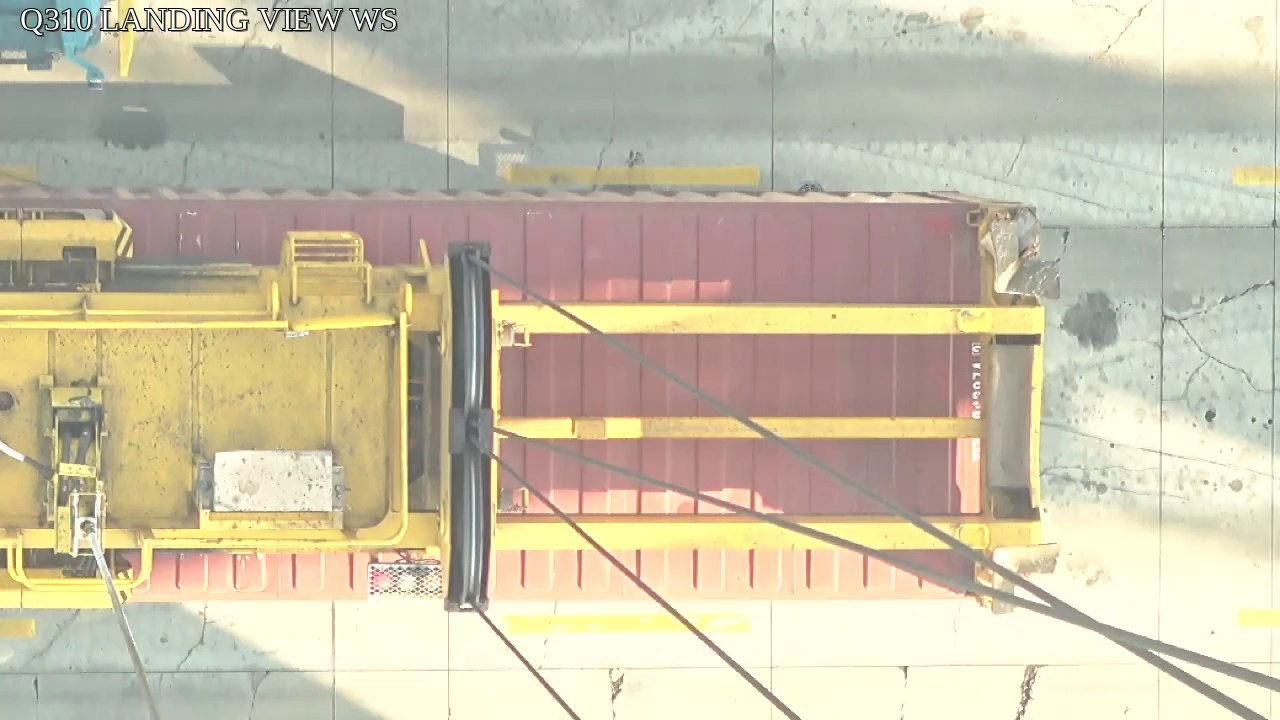right: (436, 241, 496, 614)
